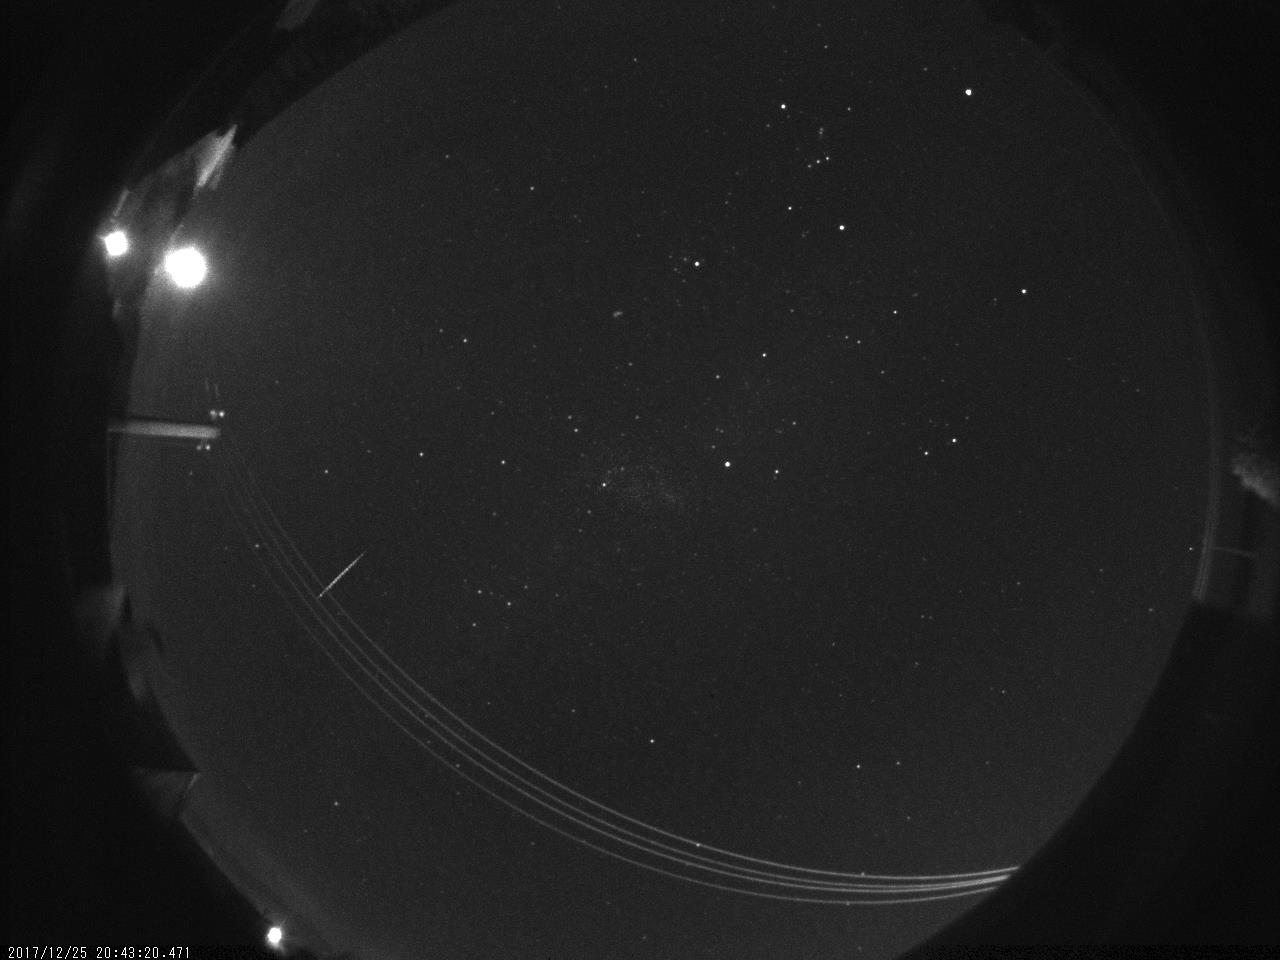meteor: (312, 545, 383, 602)
